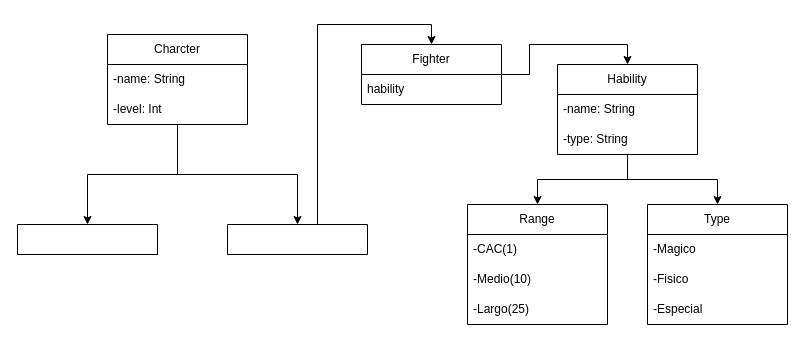
The diagram is 805 pixels wide and 342 high, and some of its shapes have lost their labels. The centre of each missing label's shape, as x and y in pixels:
"NPC" belongs at point (87, 239).
"Player" belongs at point (297, 239).
